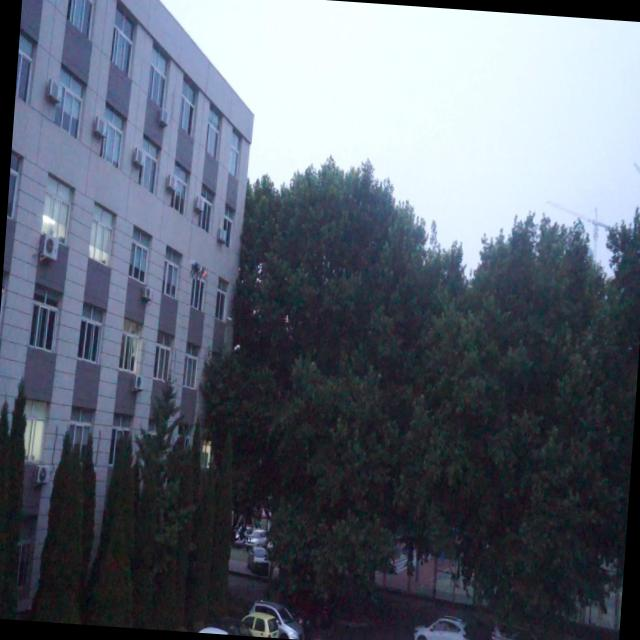drone: (185, 256, 207, 282)
